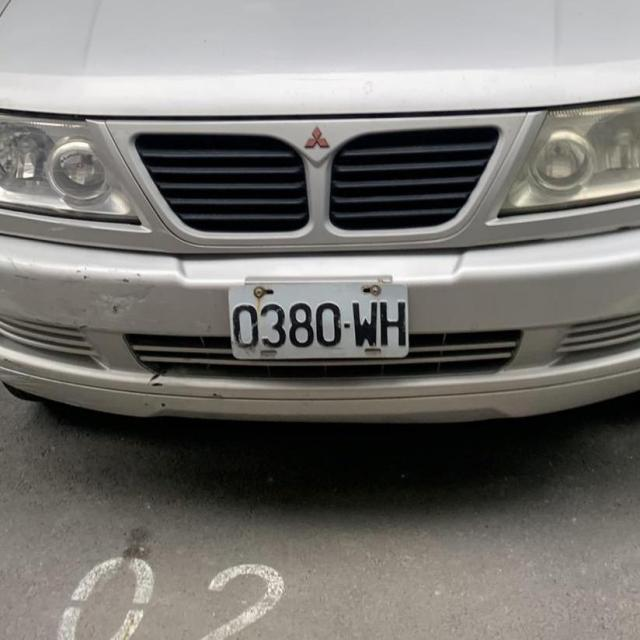W: (220, 267, 418, 377)
